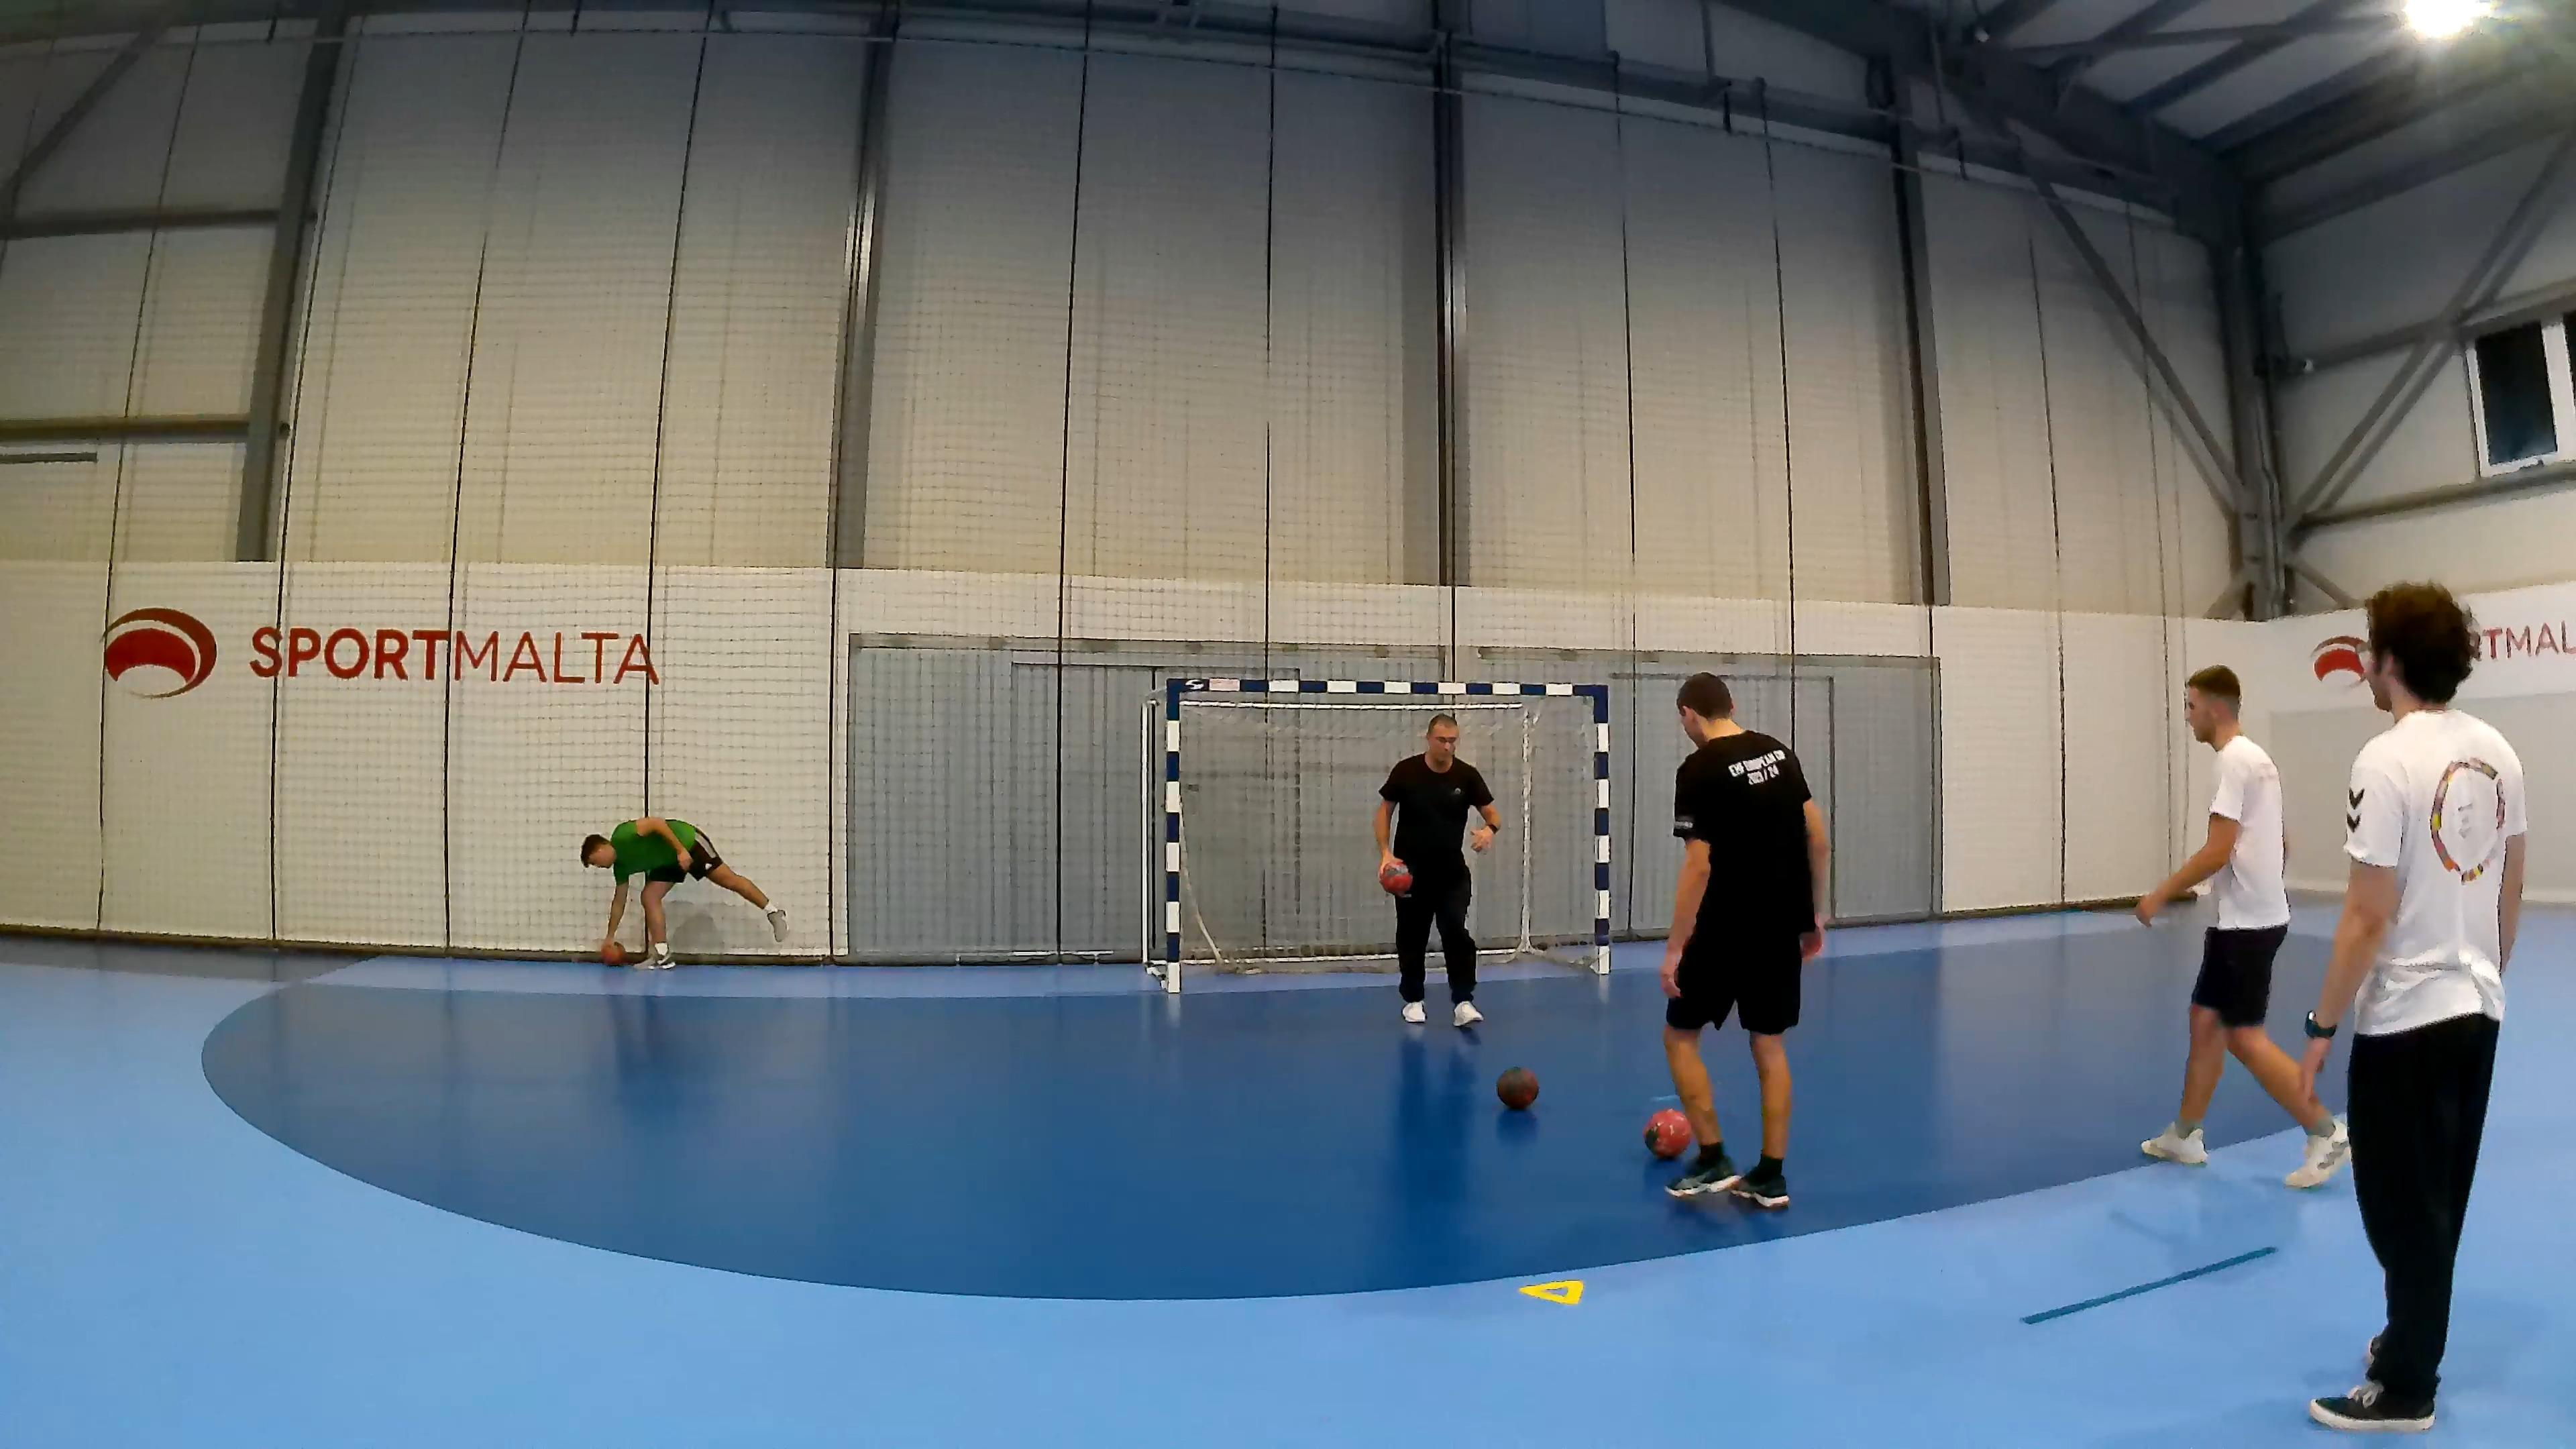handball: (1642, 1108, 1693, 1159), (1495, 1065, 1537, 1109), (1376, 858, 1412, 895), (596, 938, 628, 975)
